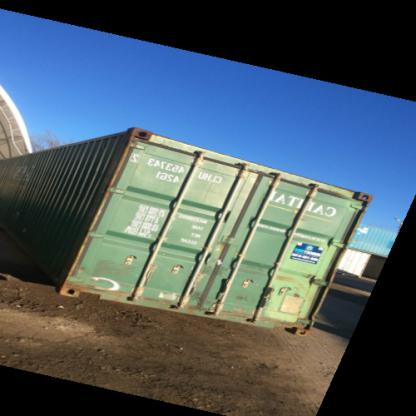Damage: (95, 252, 135, 292), (169, 283, 211, 308), (232, 290, 252, 302)
